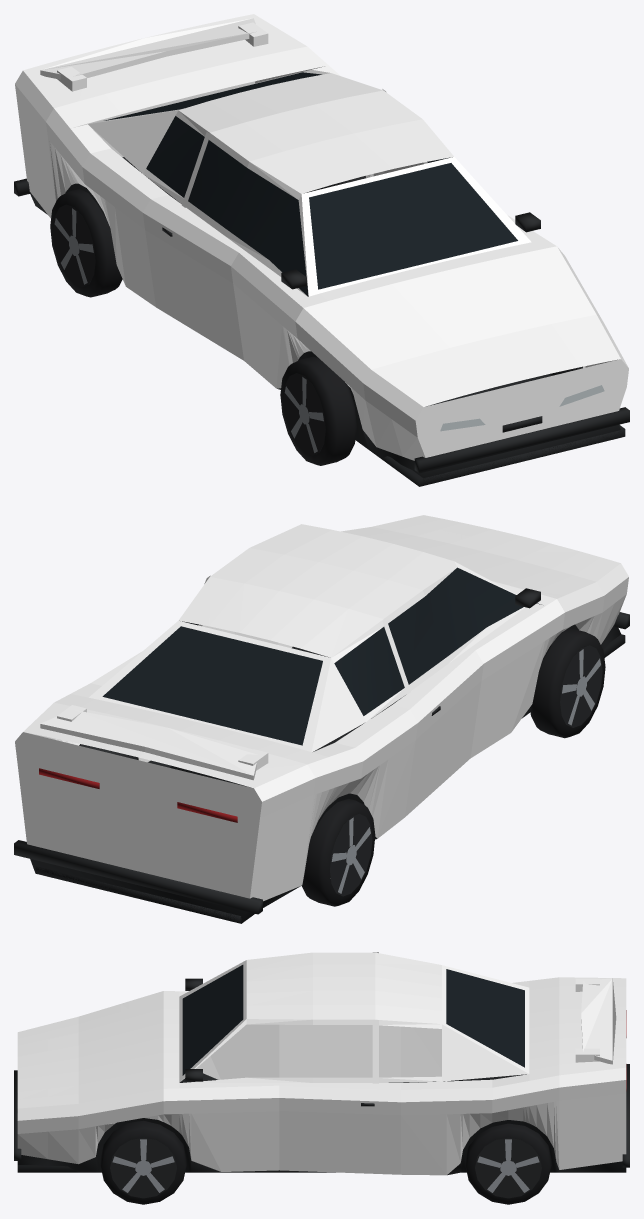
Rendered from ashby_fagulha.glb.
3 renders of one model, top to bottom at view 1: azimuth 30°, elevation 25°; view 2: azimuth 150°, elevation 25°; view 3: azimuth 270°, elevation 25°, orthographic. The views are drawn at different scales.
Parts seen in each view (by area): view 1: Body_Paint, Body_Details, Mount_FrontLeft_Wheel_Details, Mount_RearLeft_Wheel_Details; view 2: Body_Paint, Body_Details, Mount_FrontLeft_Wheel_Details, Mount_RearLeft_Wheel_Details; view 3: Body_Paint, Body_Details, Mount_FrontRight_Wheel_Details, Mount_RearRight_Wheel_Details.
Boxes of the visible parts, box(x1,y1,x2,y2) form: Body_Paint: box(15, 14, 628, 460); Body_Details: box(14, 72, 629, 486); Mount_FrontLeft_Wheel_Details: box(280, 356, 356, 465); Mount_RearLeft_Wheel_Details: box(50, 189, 122, 297); Body_Paint: box(15, 515, 628, 901); Body_Details: box(14, 567, 629, 923); Mount_FrontLeft_Wheel_Details: box(530, 628, 605, 738); Mount_RearLeft_Wheel_Details: box(302, 799, 375, 906); Body_Paint: box(17, 952, 626, 1175); Body_Details: box(14, 965, 629, 1175); Mount_FrontRight_Wheel_Details: box(100, 1120, 186, 1204); Mount_RearRight_Wheel_Details: box(465, 1123, 551, 1204).
Bounding box in the file's own units: 1.91 × 1.39 × 4.57.
2 materials, 1 textured.
